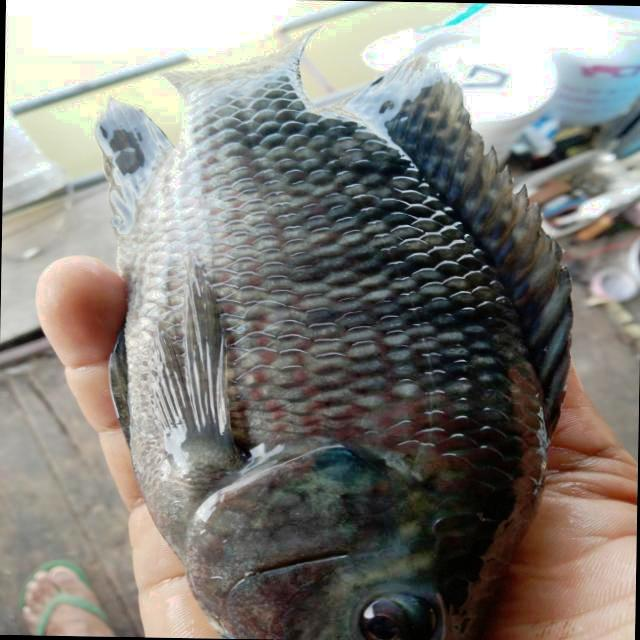Aeromonas Septicemia: (96, 20, 572, 640)
